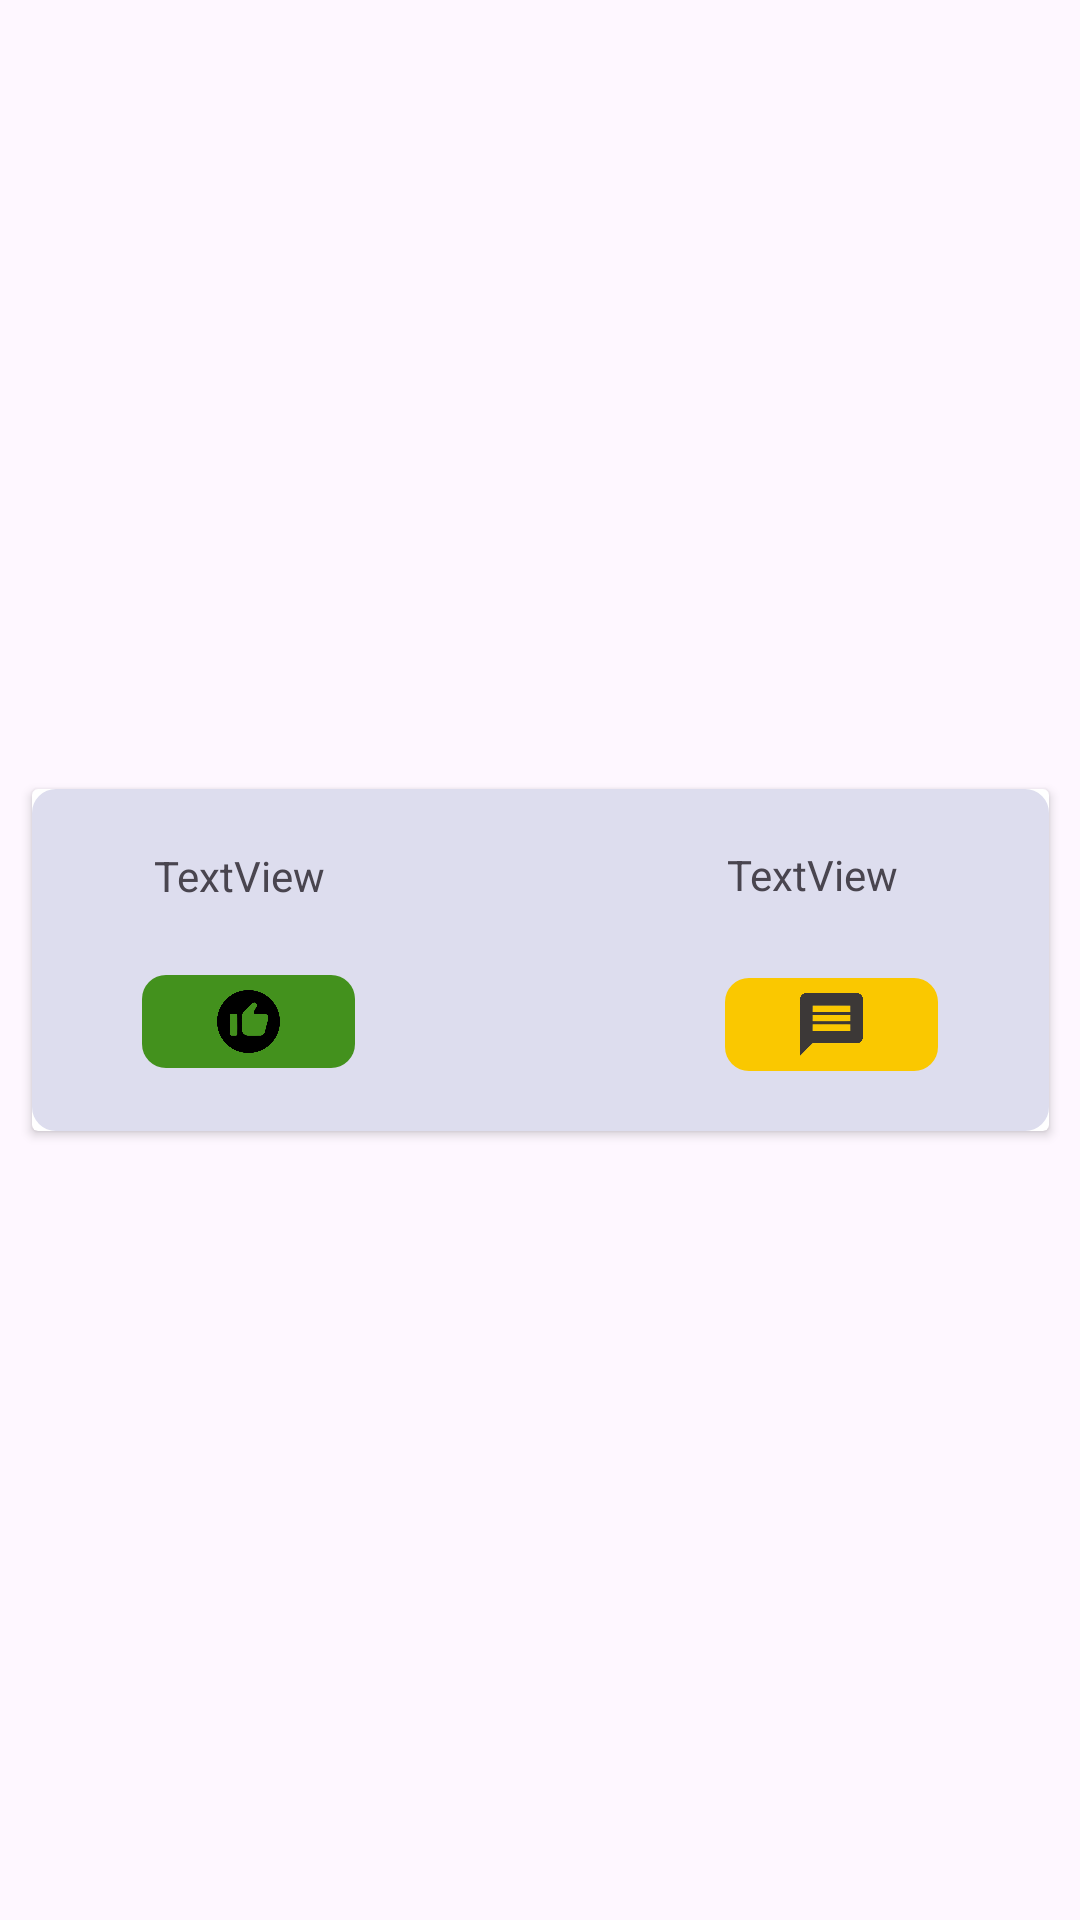

Screen size 1080w x 1920h. Icon name, then its box in pixels as (x1, y1, x2, y2):
thumps up: (142, 975, 355, 1068)
